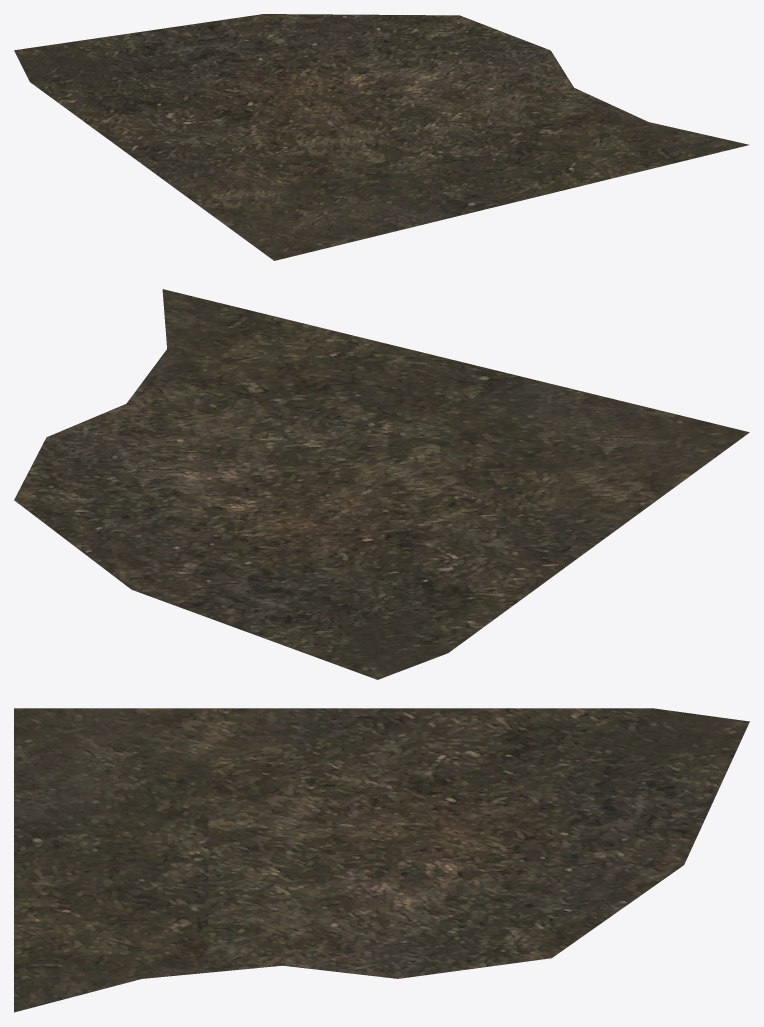
The model's file is blend_weeds10.fbx.
The picture shows the model from 3 angles, top to bottom: view 1: azimuth 30°, elevation 25°; view 2: azimuth 150°, elevation 25°; view 3: azimuth 270°, elevation 25°; orthographic projection. The views are drawn at different scales.
Visible parts, largest first — view 1: obj0.031; view 2: obj0.031; view 3: obj0.031.
Part boxes in pixels (bbox=[...]): obj0.031: bbox=[14, 14, 749, 260]; obj0.031: bbox=[14, 289, 749, 679]; obj0.031: bbox=[14, 708, 749, 1012].
Size of the model in its own units: 14.05 by 0.00154 by 14.37.
